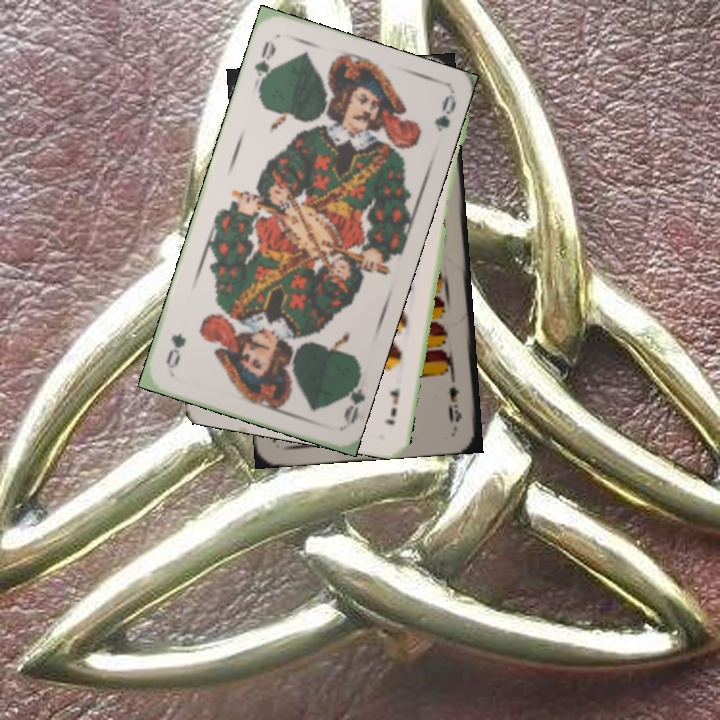E7: (381, 383, 402, 428)
E9: (444, 369, 464, 425)
GO: (337, 368, 366, 428), (250, 36, 279, 94)
